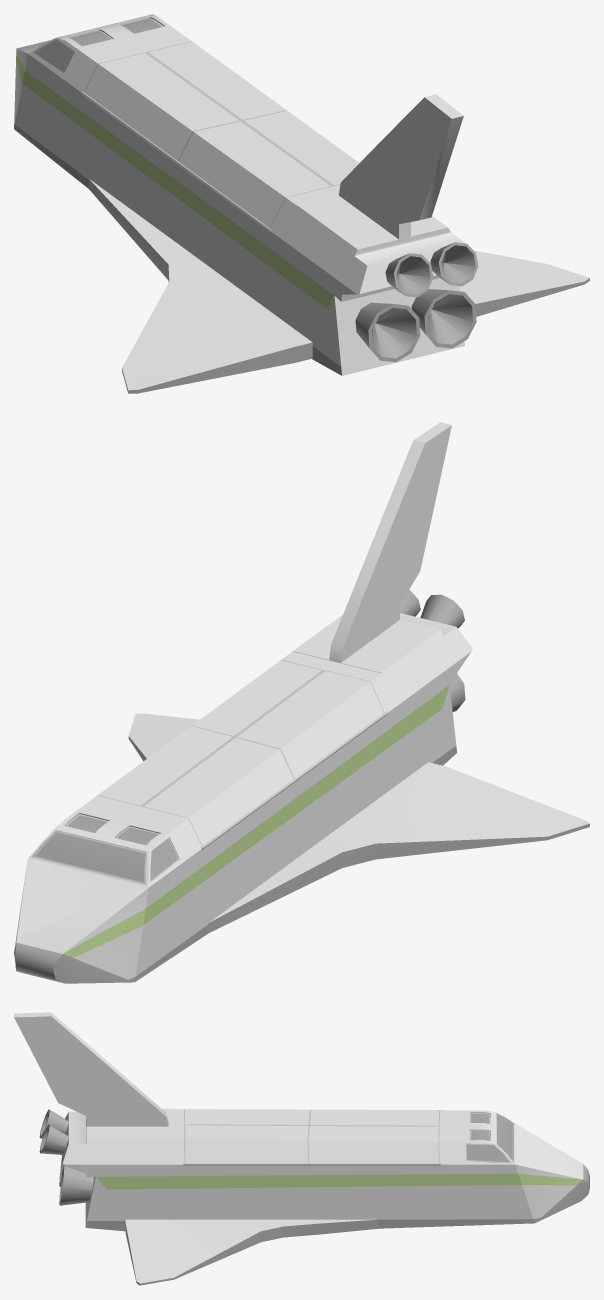
Rendered from shuttle_1.fbx.
3 views of the same model, one above another, from view 1: azimuth 30°, elevation 25°; view 2: azimuth 150°, elevation 25°; view 3: azimuth 270°, elevation 25° (orthographic). The views are drawn at different scales.
Parts seen in each view (by area): view 1: Null_3; view 2: Null_3; view 3: Null_3.
Part boxes in pixels (<box>): Null_3: <box>14,14,589,393</box>; Null_3: <box>14,422,589,983</box>; Null_3: <box>14,1012,589,1285</box>.
Size of the model in its own units: 1503 by 902 by 2370.
